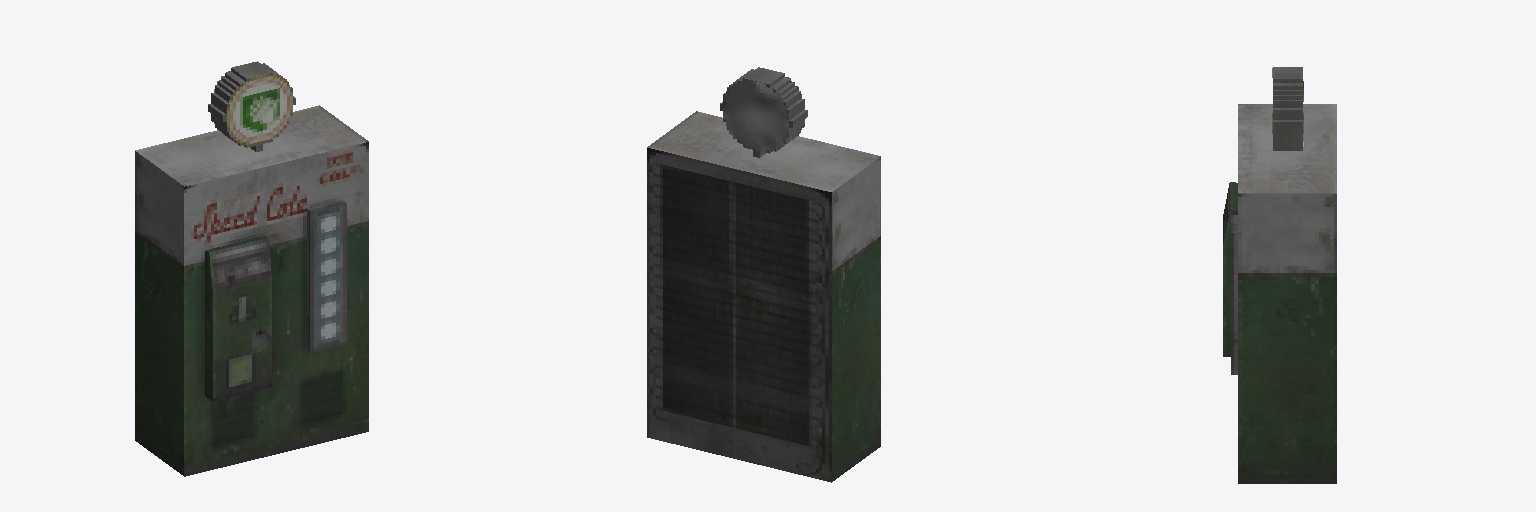
The picture shows the model from 3 angles: view 1: azimuth 30°, elevation 25°; view 2: azimuth 150°, elevation 25°; view 3: azimuth 270°, elevation 25°; orthographic projection.
Visible parts, largest first — view 1: Speed, Speed.000, Speed.001, Icon, Speed1; view 2: Speed, Icon.006; view 3: Speed, Speed.001, Speed.000, Speed1, Icon.004.
Part boxes in pixels (x1,y1,x2,y2): Speed: (135, 105, 368, 476); Speed.000: (205, 278, 271, 400); Speed.001: (307, 200, 346, 352); Icon: (226, 73, 292, 146); Speed1: (205, 236, 271, 291); Speed: (647, 111, 880, 482); Icon.006: (723, 79, 788, 152); Speed: (1238, 104, 1336, 483); Speed.001: (1231, 215, 1237, 374); Speed.000: (1223, 248, 1230, 356); Speed1: (1223, 182, 1237, 248); Icon.004: (1273, 108, 1302, 136).
Bounding box in the file's own units: 28 × 53 × 15.08.
Materials: 1 (1 with a texture image).